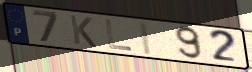2: (207, 29, 243, 67)
7: (30, 8, 61, 44)
9: (173, 25, 204, 62)
I: (138, 20, 155, 57)
K: (67, 14, 98, 49)
L: (103, 18, 135, 53)
